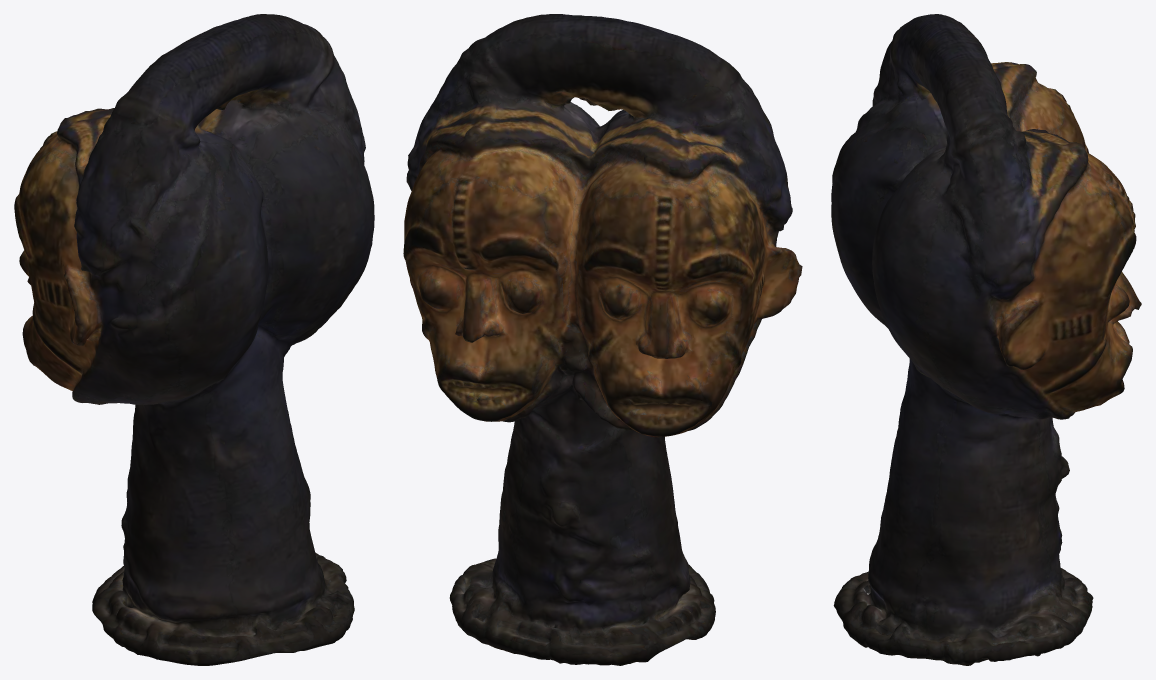
File: preview.glb
The picture shows the model from 3 angles, left to right: view 1: azimuth 30°, elevation 25°; view 2: azimuth 150°, elevation 25°; view 3: azimuth 270°, elevation 25°; orthographic projection. The views are drawn at different scales.
Parts seen in each view (by area): view 1: Object_2; view 2: Object_2; view 3: Object_2.
Boxes of the visible parts, x1,y1,x2,y2 form: Object_2: (14,14,374,665); Object_2: (403,14,802,665); Object_2: (831,14,1141,665).
Bounding box in the file's own units: 196 × 328 × 159.
Materials: 1 (1 with a texture image).
